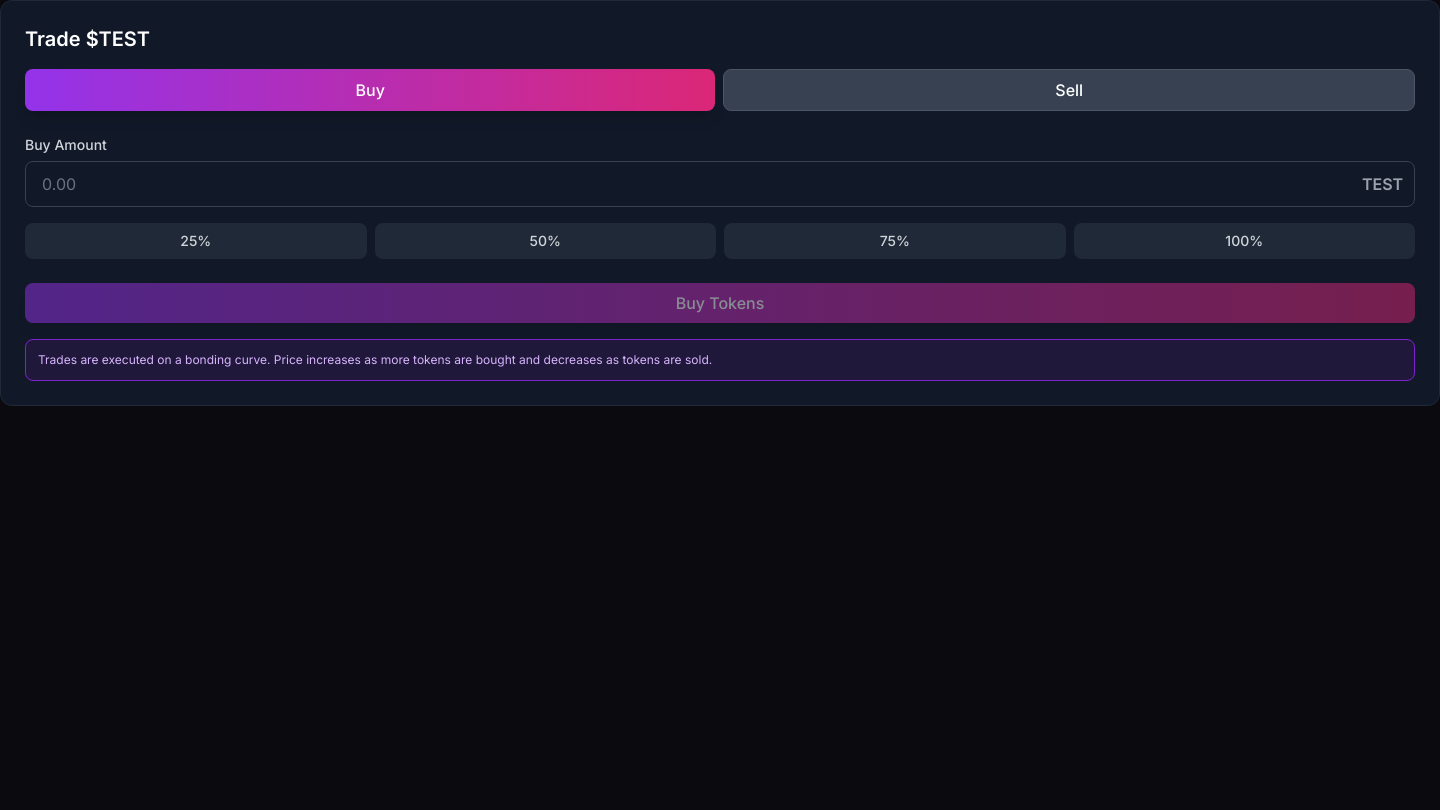
TradingInterface › Quote Fetching › should display quote when fetched successfully
Step 1. Type "1000000" into the number field with placeholder "0.00" → (720, 184), box x1=25 y1=161 x2=1415 y2=207
Wait 500 ms
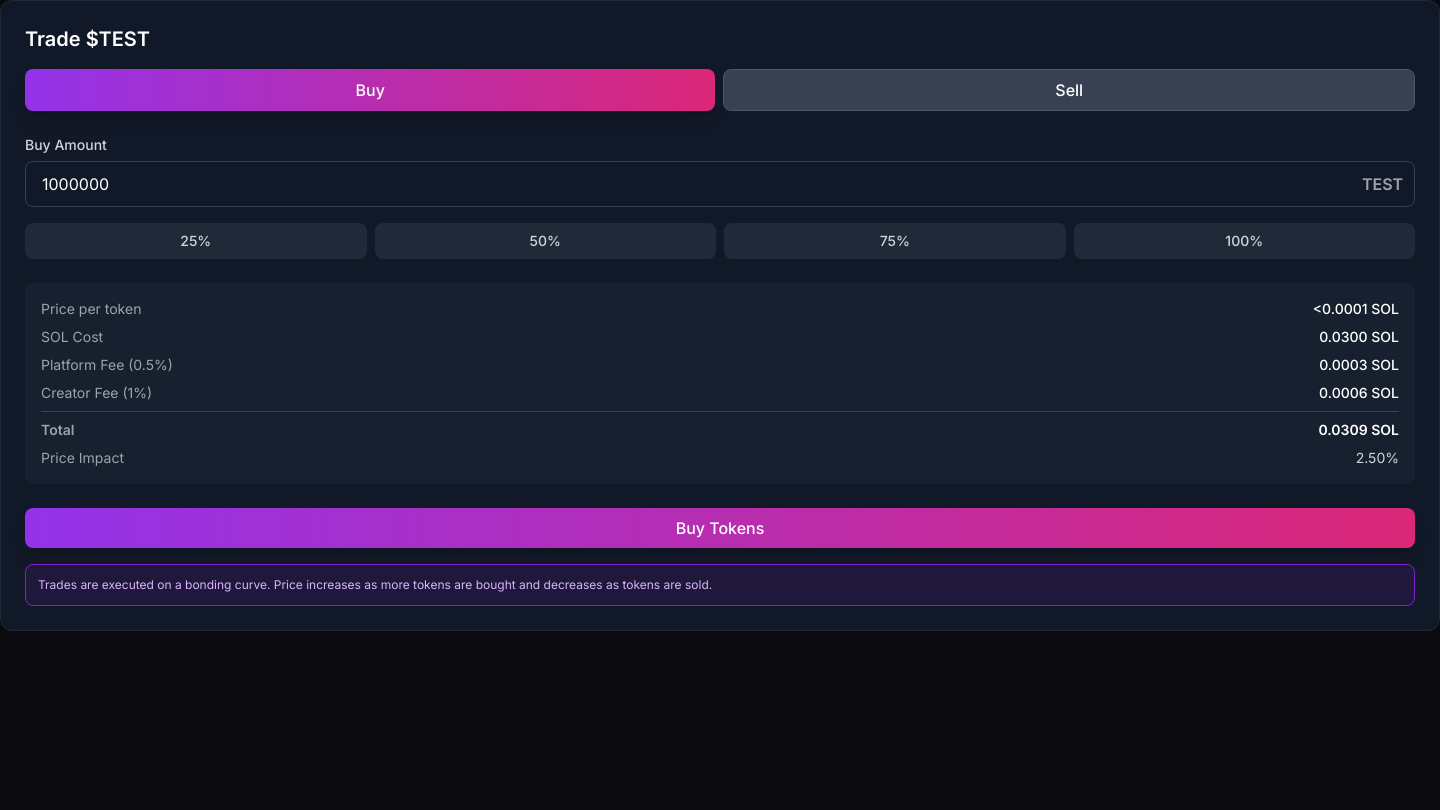
expect the text "Price per token" is shown: met, box x1=41 y1=299 x2=141 y2=319
expect the text "SOL Cost" is shown: met, box x1=41 y1=327 x2=103 y2=347
expect the text "Platform Fee (0.5%)" is shown: met, box x1=41 y1=355 x2=173 y2=375
